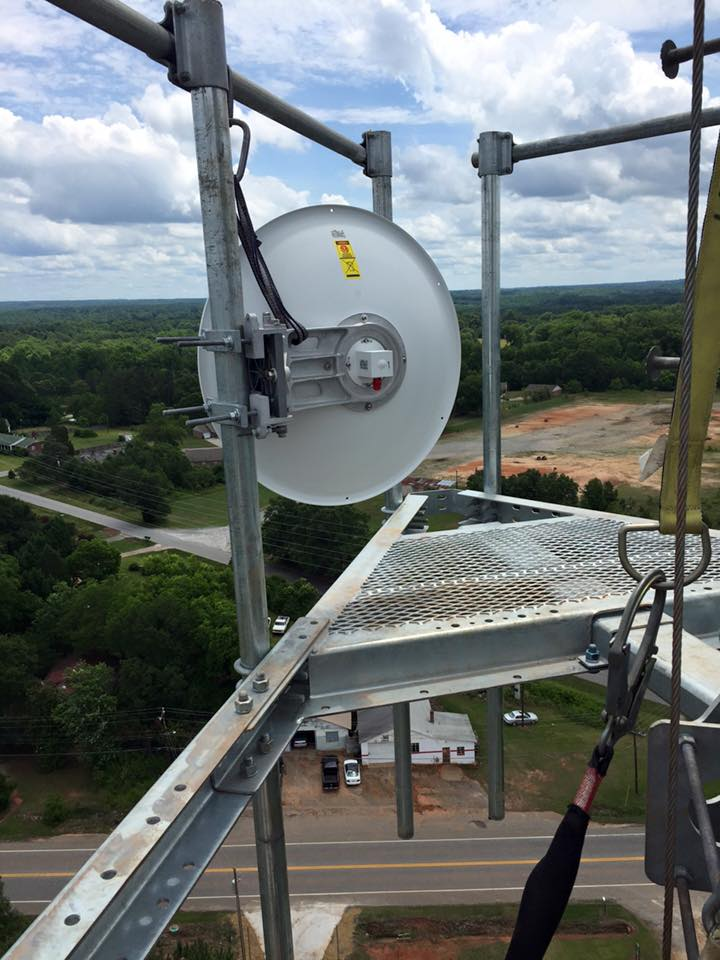ba: (191, 163, 460, 519)
